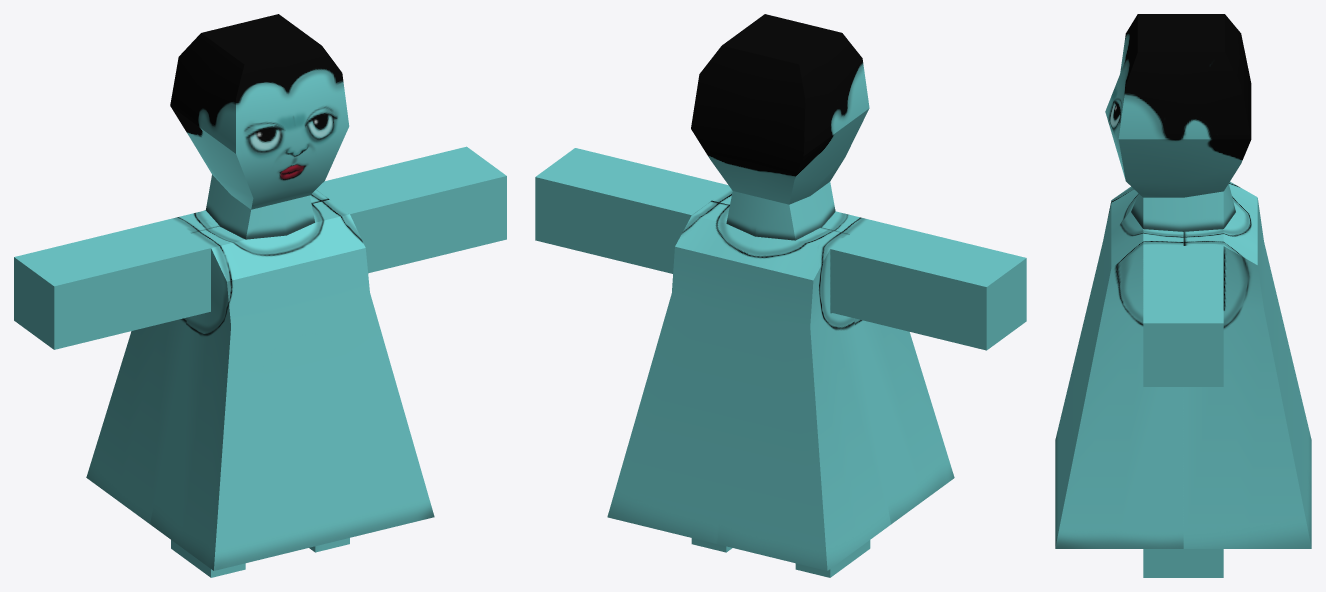
File: DollFemale.fbx
The picture shows the model from 3 angles, left to right: view 1: azimuth 30°, elevation 25°; view 2: azimuth 150°, elevation 25°; view 3: azimuth 270°, elevation 25°; orthographic projection.
Parts seen in each view (by area): view 1: DollFemale; view 2: DollFemale; view 3: DollFemale.
Part boxes in pixels (x1,y1,x2,y2): DollFemale: [14, 14, 506, 577]; DollFemale: [535, 14, 1026, 577]; DollFemale: [1055, 14, 1311, 577].
Bounding box in the file's own units: 35.93 × 38.52 × 17.53.
